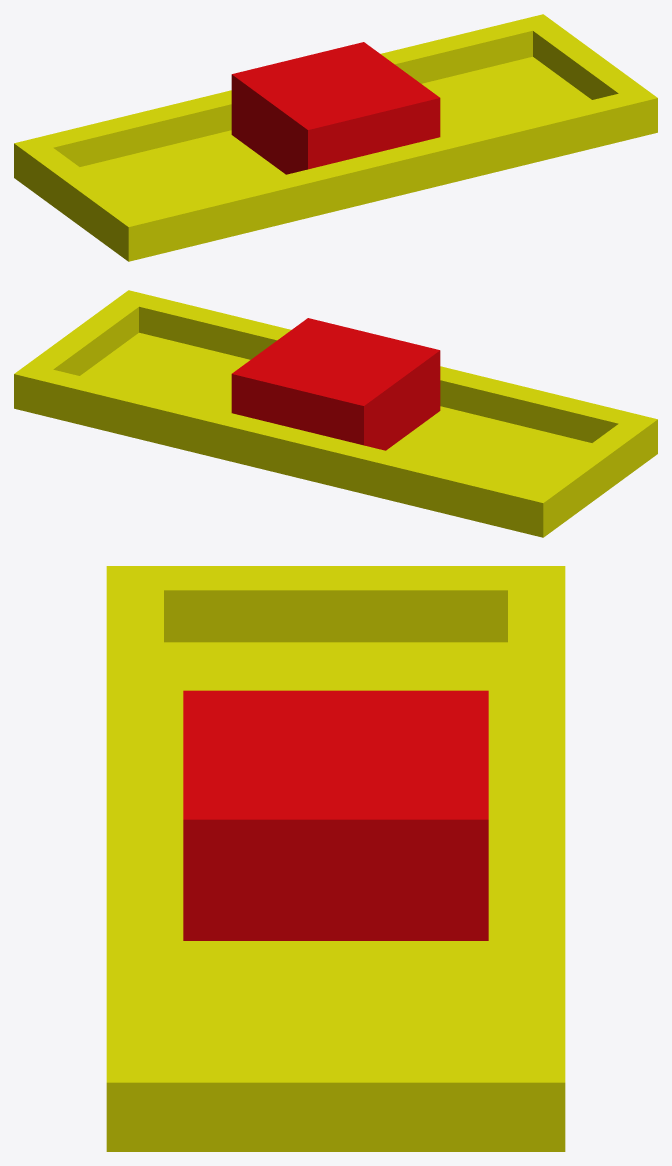
The model's file is TestSlider.fbx.
The picture shows the model from 3 angles, top to bottom: view 1: azimuth 30°, elevation 25°; view 2: azimuth 150°, elevation 25°; view 3: azimuth 270°, elevation 25°; orthographic projection. The views are drawn at different scales.
Visible parts, largest first — view 1: SliderHolder, Slider; view 2: SliderHolder, Slider; view 3: SliderHolder, Slider.
Part boxes in pixels (x1,y1,x2,y2): SliderHolder: (14, 14, 657, 261); Slider: (231, 42, 440, 174); SliderHolder: (14, 290, 657, 537); Slider: (231, 318, 440, 450); SliderHolder: (106, 566, 565, 1151); Slider: (183, 690, 488, 940).
Size of the model in its own units: 320 by 40 by 120.
